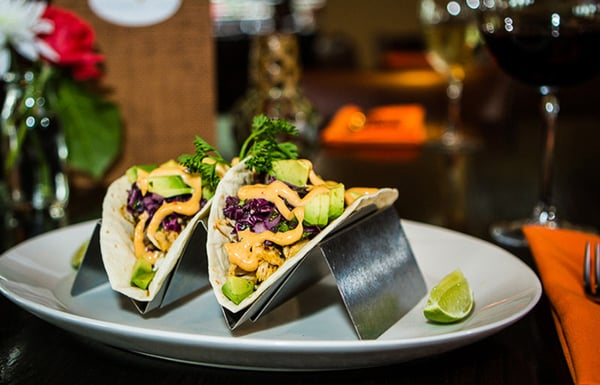sandwich: (476, 0, 600, 240), (417, 0, 492, 155)
soup: (0, 68, 71, 254)
